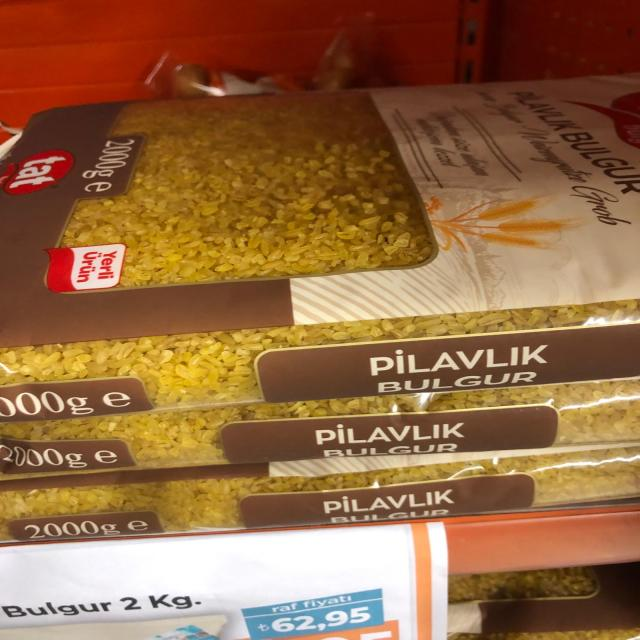bulgur: (0, 81, 629, 407)
